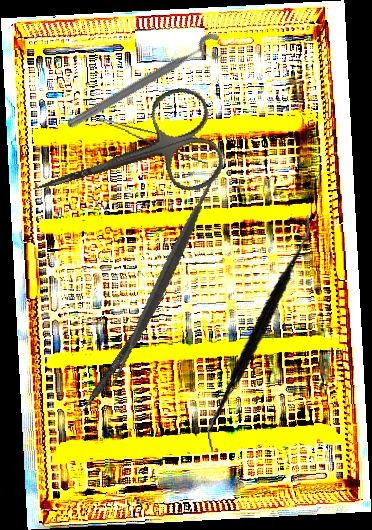Fixation Ring: (63, 28, 231, 143)
Iris Scissors: (17, 81, 230, 237)
Spatula Surgical: (52, 164, 277, 390), (182, 214, 339, 453), (67, 289, 168, 434)
Tissue Forceps: (94, 117, 211, 164)
